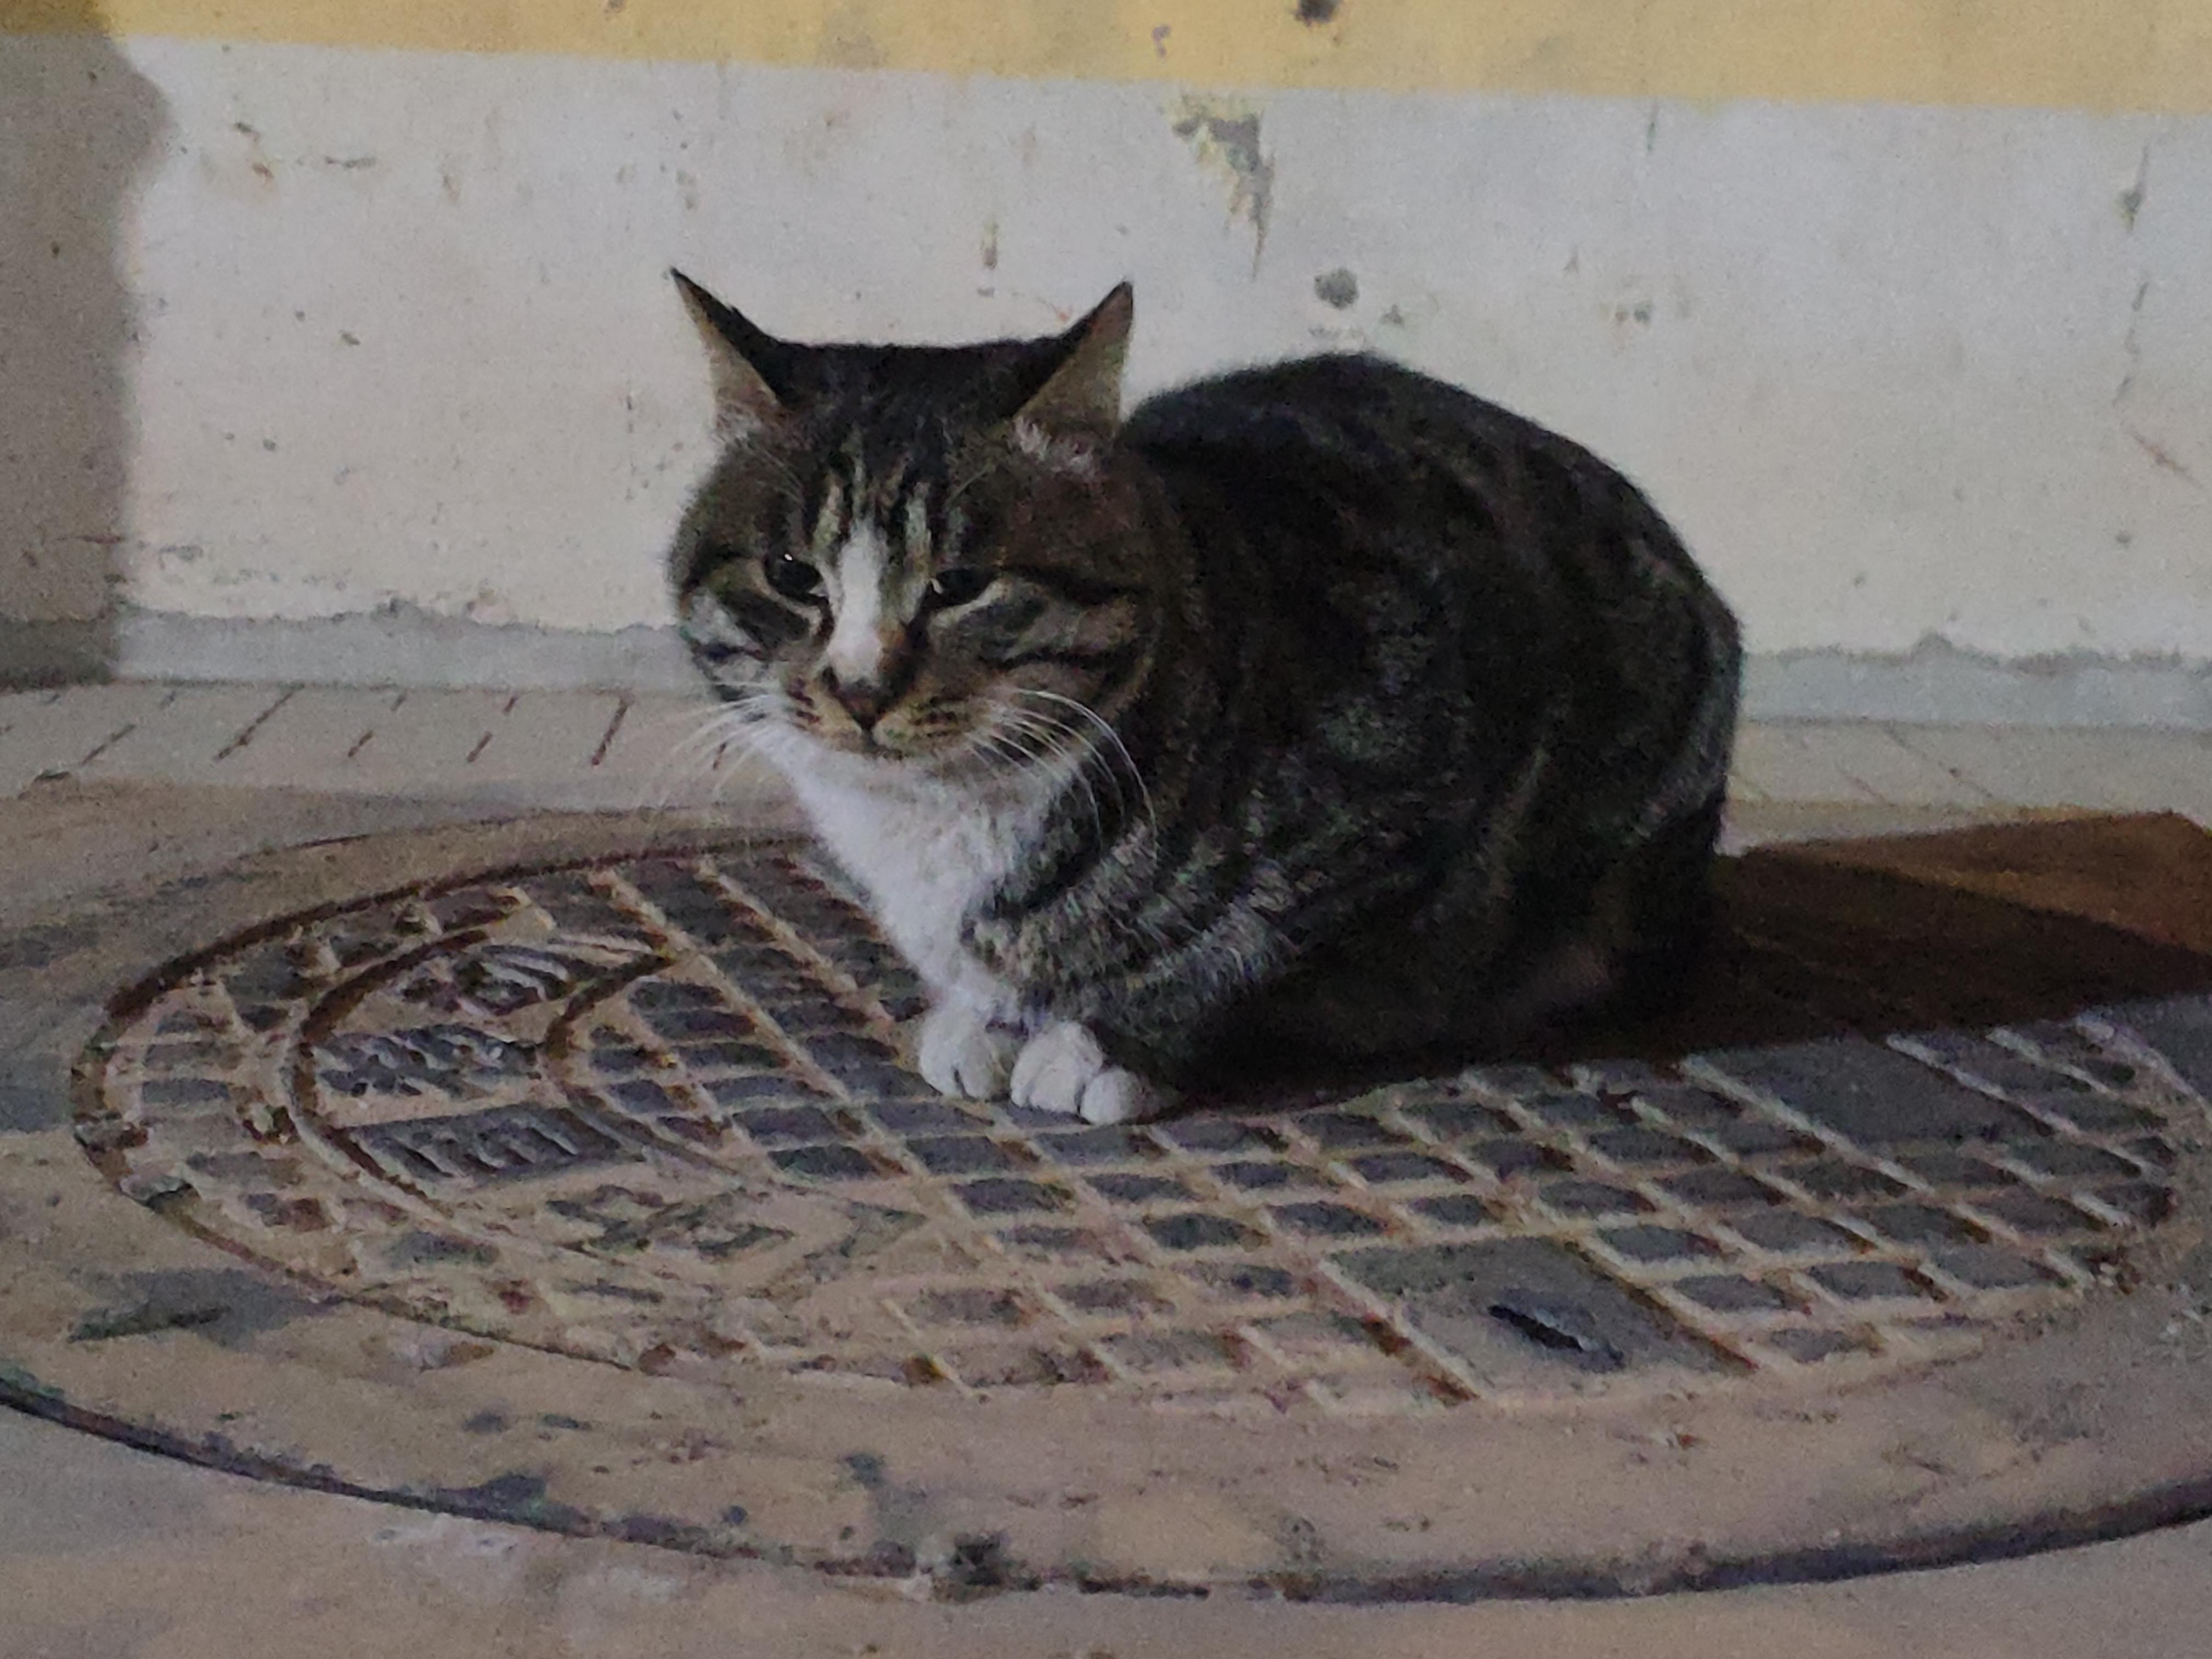cat1: (653, 260, 1754, 1117)
